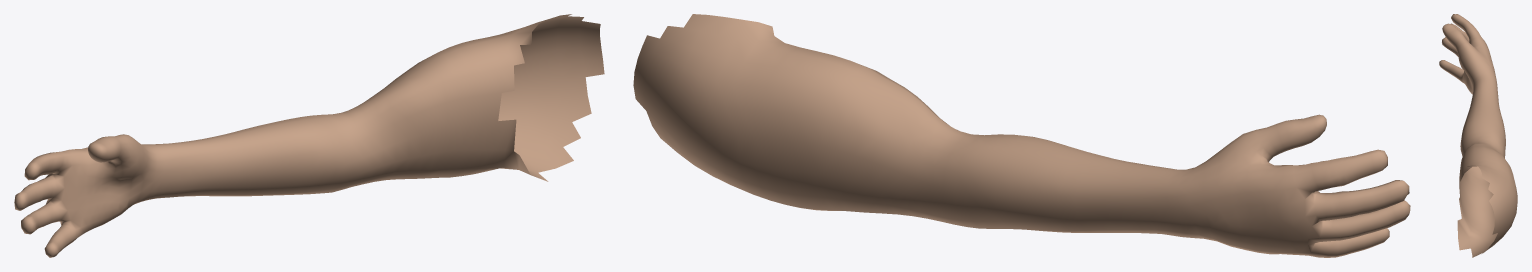
The model's file is Hand.FBX.
3 views of the same model, side by side, from view 1: azimuth 30°, elevation 25°; view 2: azimuth 150°, elevation 25°; view 3: azimuth 270°, elevation 25° (orthographic). The views are drawn at different scales.
Visible parts, largest first — view 1: humanBody; view 2: humanBody; view 3: humanBody.
Boxes of the visible parts, bbox=[...] form: humanBody: bbox=[14, 14, 604, 257]; humanBody: bbox=[633, 14, 1410, 257]; humanBody: bbox=[1439, 14, 1517, 257].
Size of the model in its own units: 31.77 by 7.7 by 5.88.
